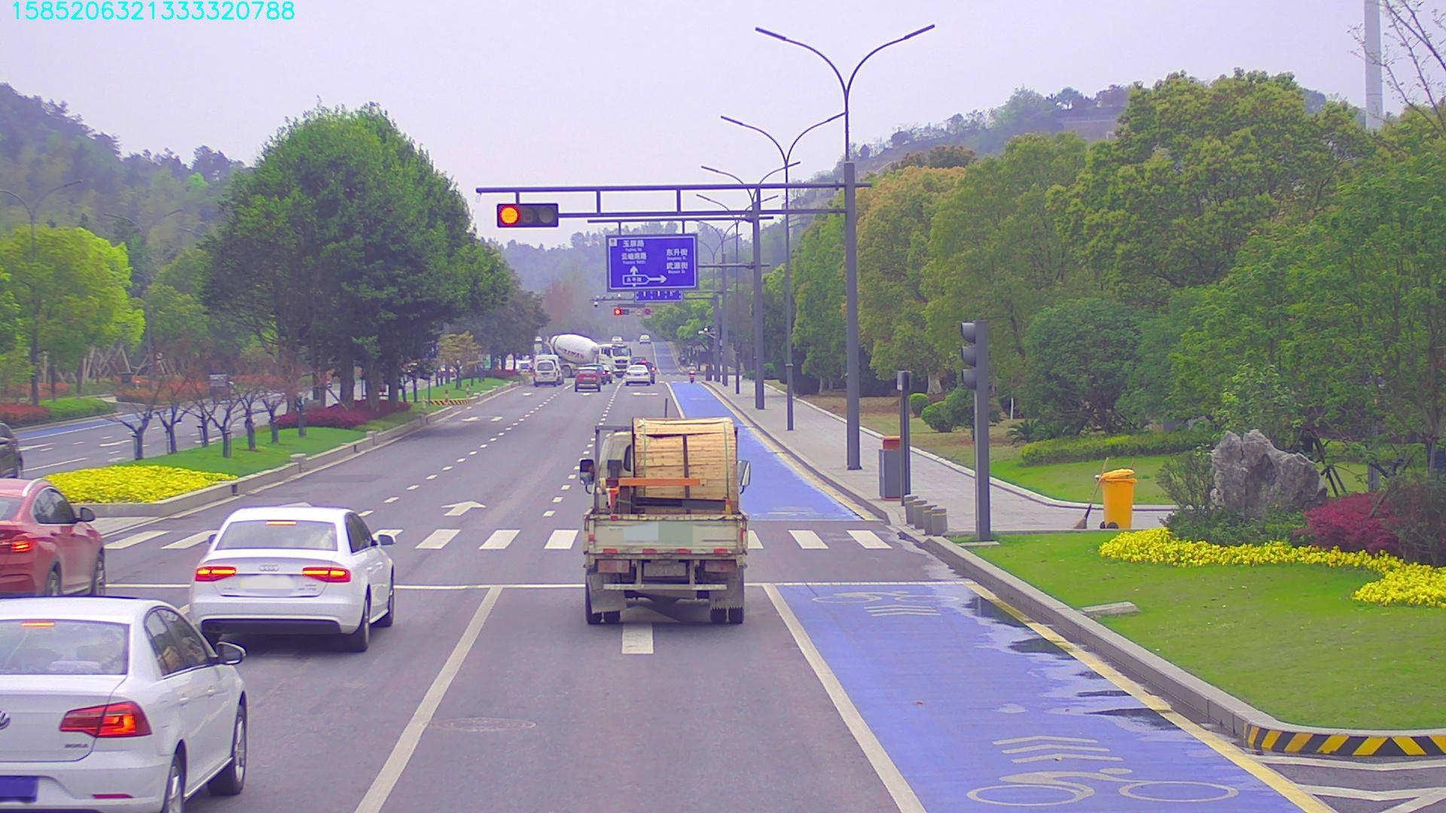red: (499, 202, 554, 229)
